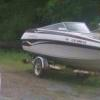Boat: (15, 18, 98, 81)
